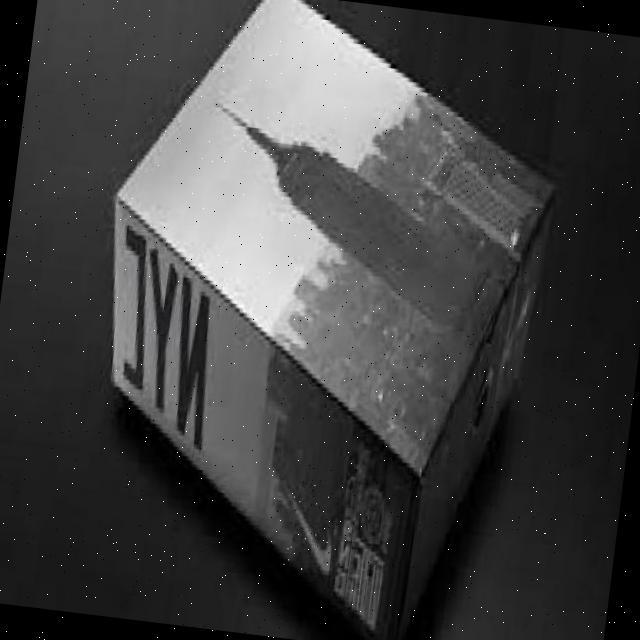Nike: (279, 477, 346, 576)
